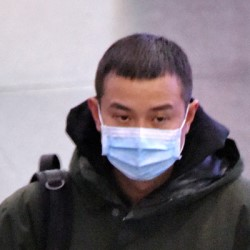mask: (92, 104, 189, 183)
